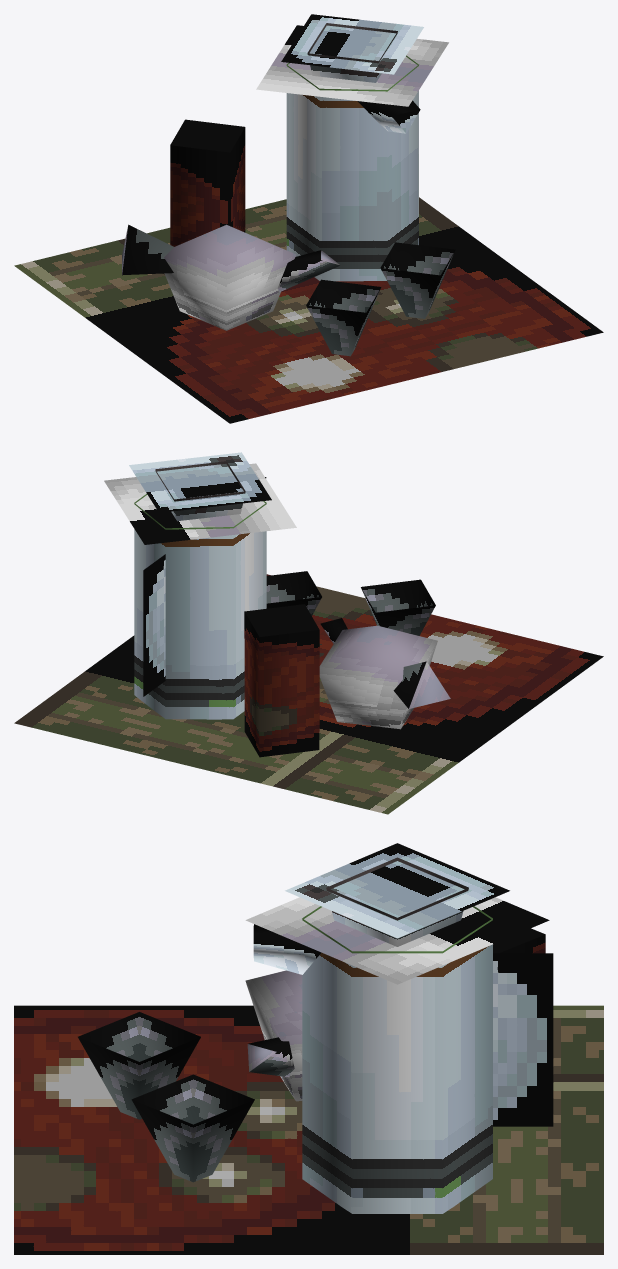
3 views of the same model, one above another, from view 1: azimuth 30°, elevation 25°; view 2: azimuth 150°, elevation 25°; view 3: azimuth 270°, elevation 25° (orthographic). The views are drawn at different scales.
Visible parts, largest first — view 1: 0150dummy; view 2: 0150dummy; view 3: 0150dummy.
Boxes of the visible parts, x1,y1,x2,y2 form: 0150dummy: (14,14,603,423); 0150dummy: (14,452,603,814); 0150dummy: (14,843,603,1254).
Size of the model in its own units: 0.98 by 0.5994 by 0.98.
Materials: 3 (3 with a texture image).
